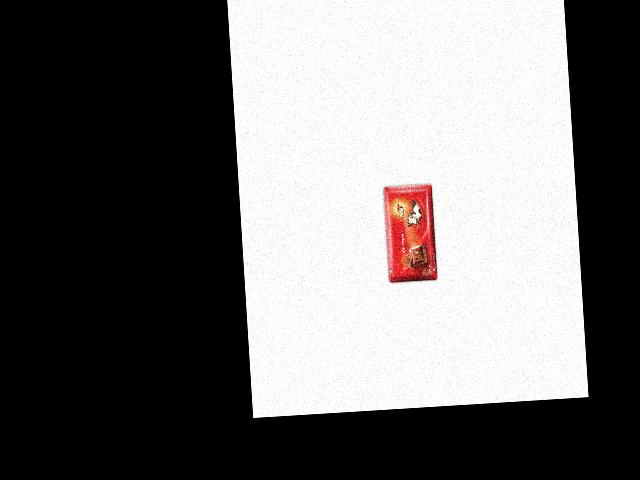chocolate: (382, 178, 441, 284)
